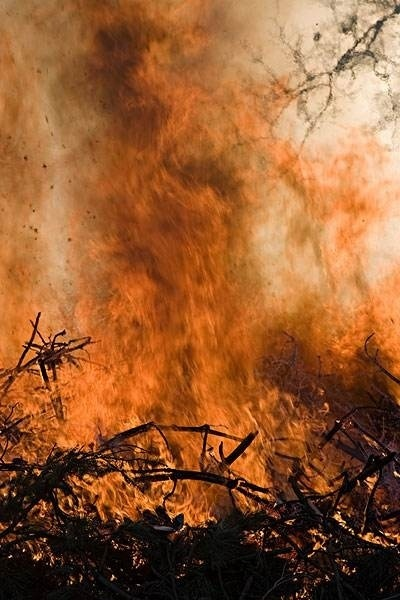fire: (1, 60, 386, 506)
